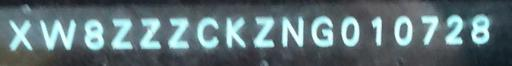letter: (38, 16, 78, 52), (166, 14, 194, 50), (194, 14, 222, 50), (138, 15, 164, 53), (308, 13, 336, 48), (278, 14, 306, 48), (6, 18, 34, 51), (252, 13, 276, 49), (82, 15, 106, 51), (110, 16, 134, 52), (223, 15, 249, 48), (390, 13, 414, 48), (468, 12, 492, 46), (442, 11, 464, 47), (338, 13, 360, 49), (418, 12, 440, 46), (368, 13, 386, 48)
